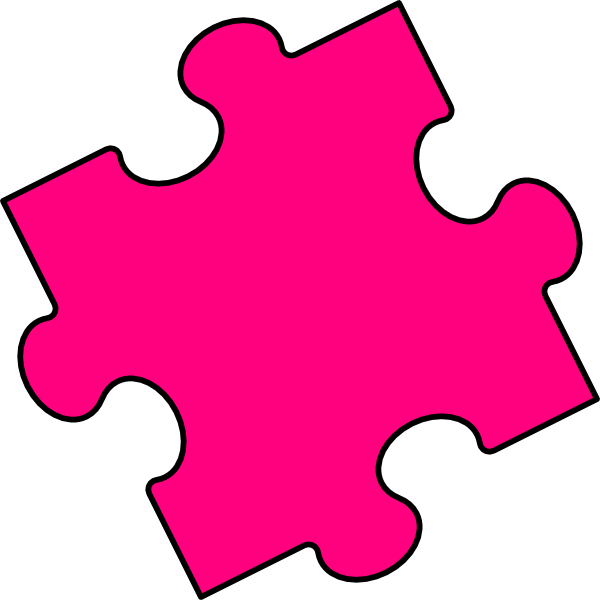puzzle piece: (4, 31, 600, 589)
